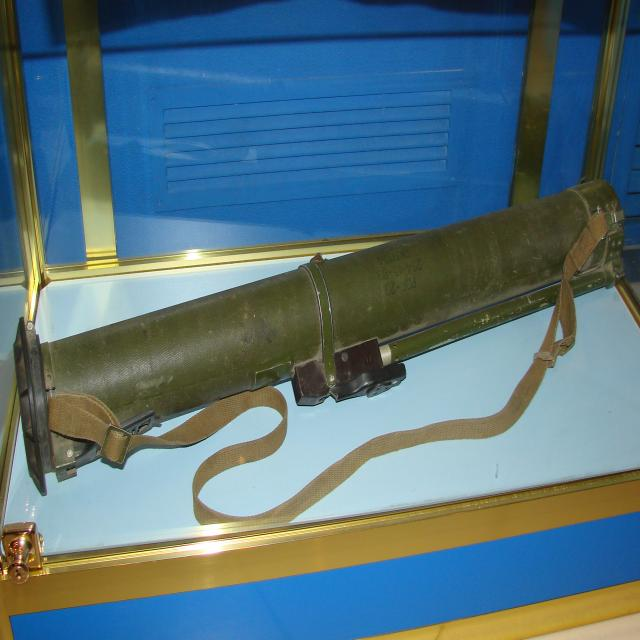bazooka: (8, 175, 640, 492)
